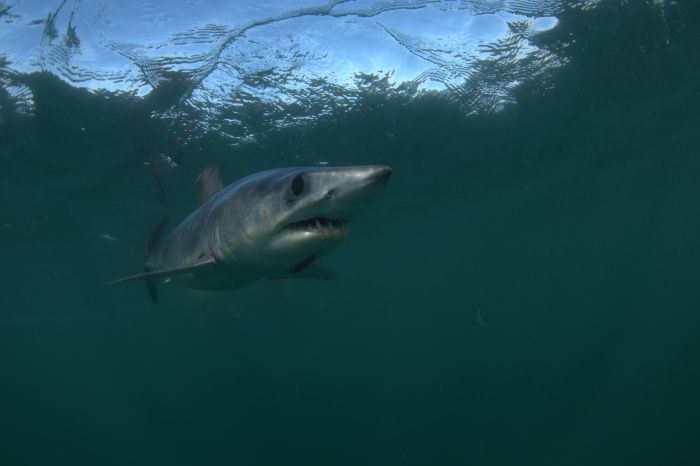Mako: (95, 144, 409, 315)
